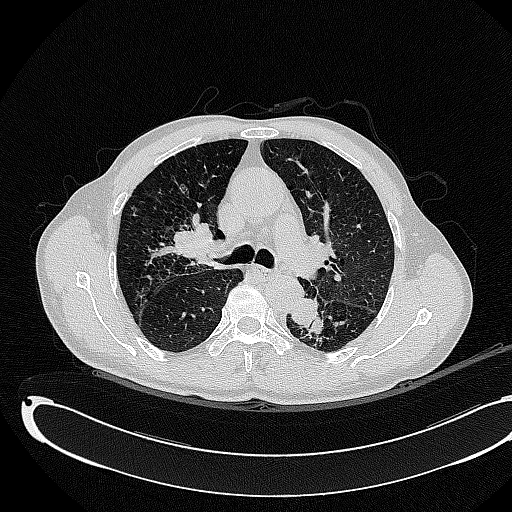nodule: (310, 318, 323, 333)
